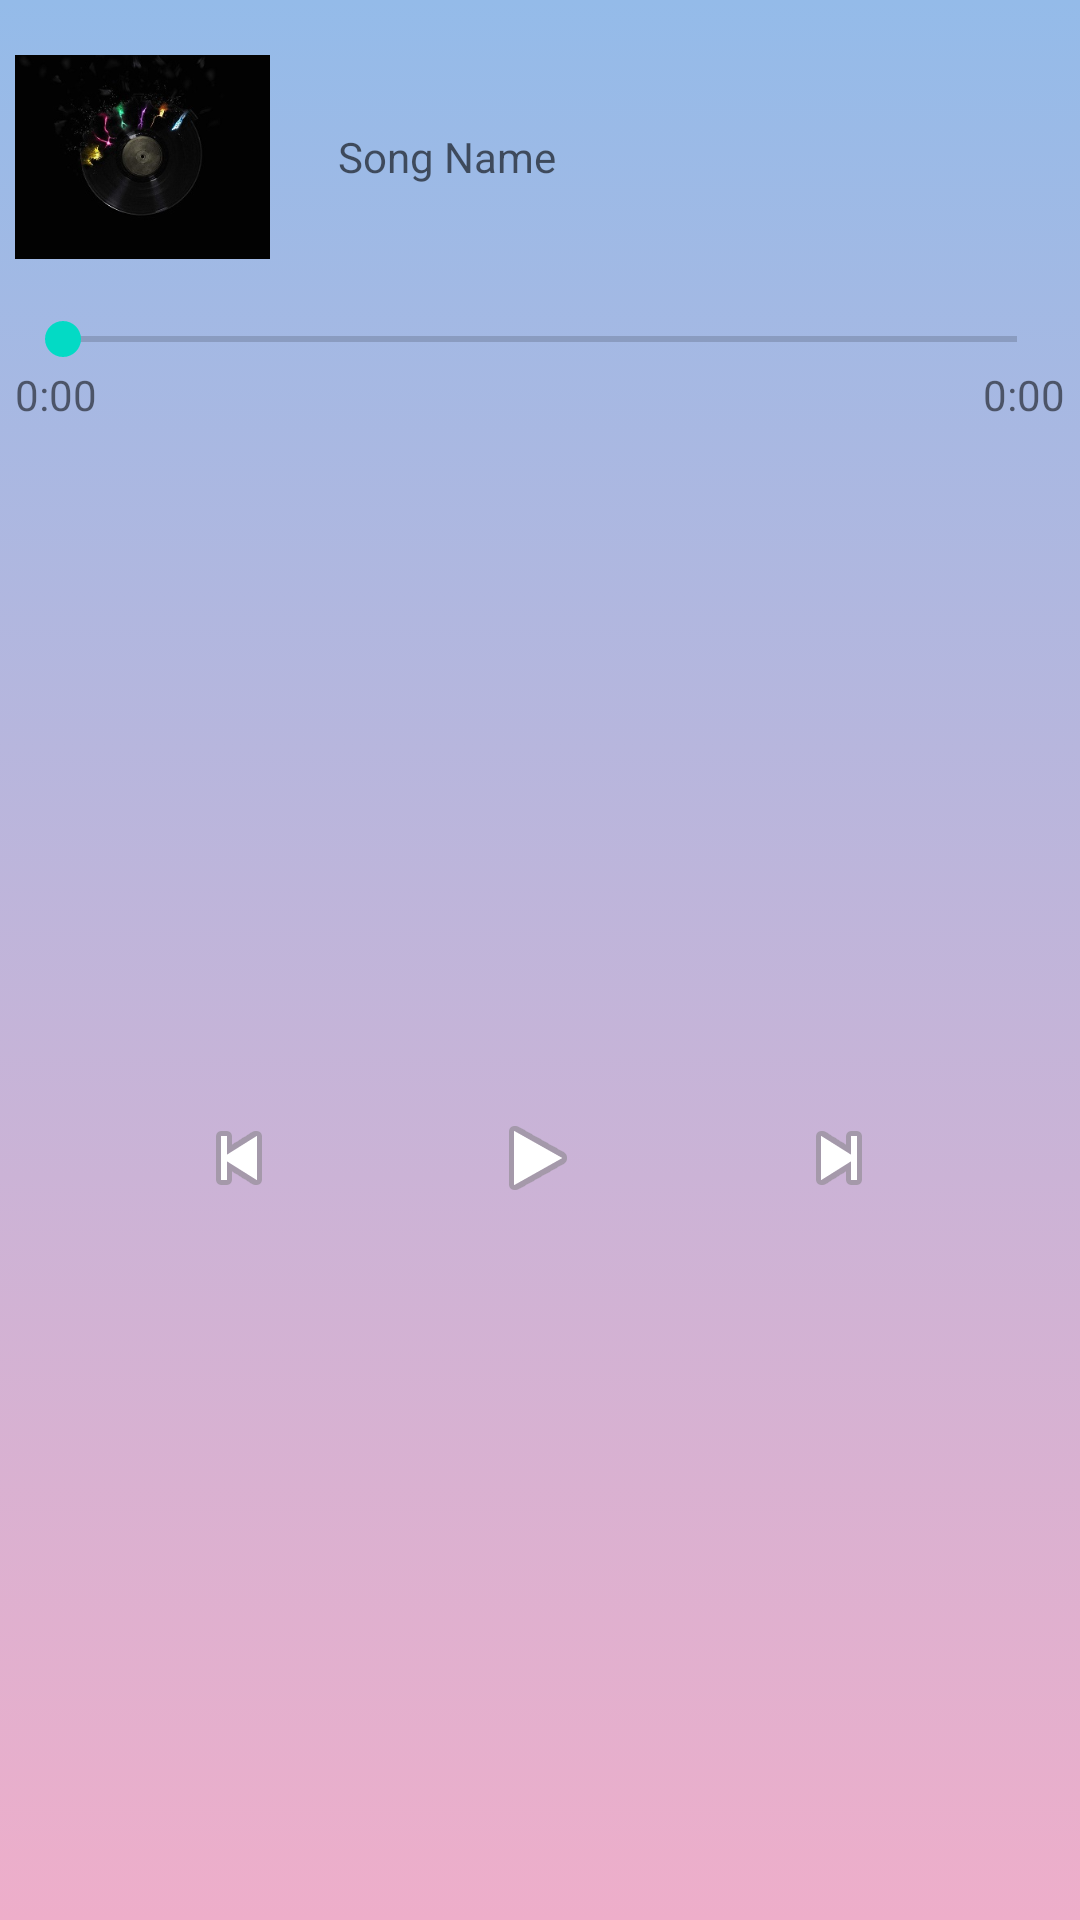

Named icons in this screenshot (1080x1920) and their centers, point (x, y):
next: point (839, 1158)
play: point (538, 1158)
previous: point (239, 1158)
